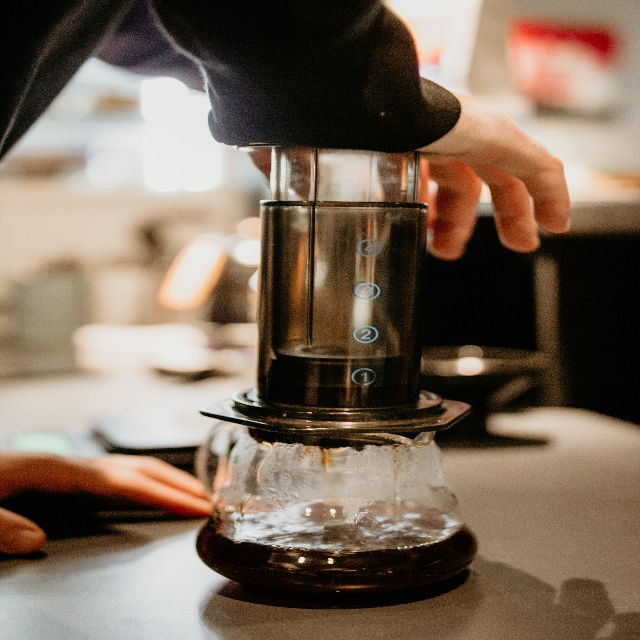Sin_guantes: (424, 94, 569, 262), (1, 449, 213, 557)
